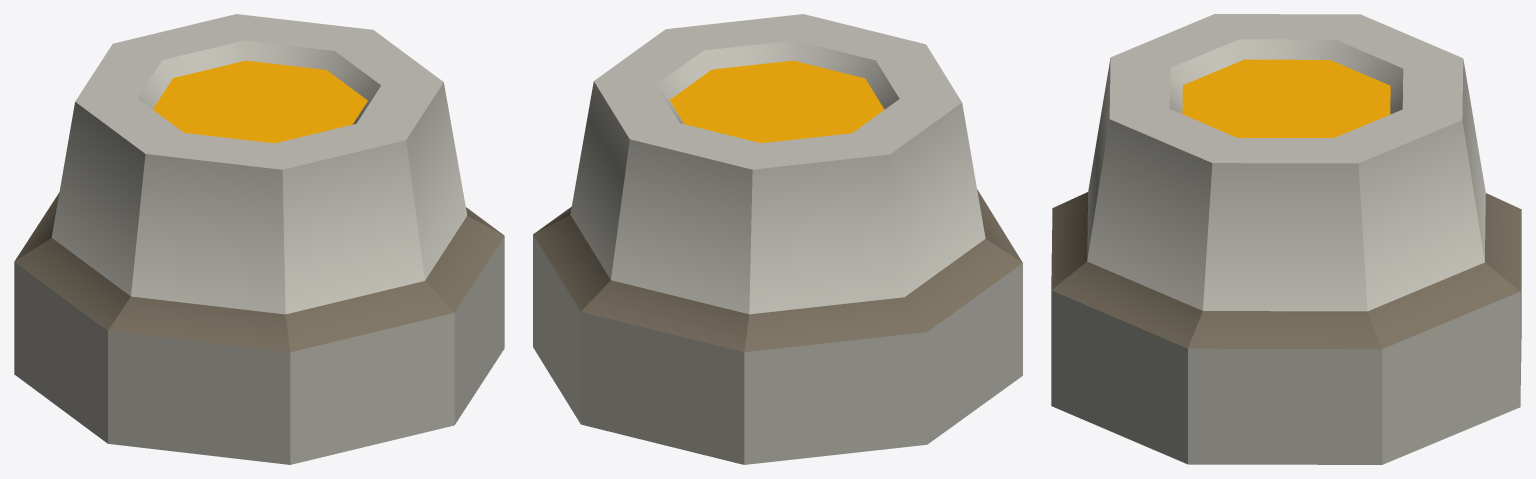
File: Piedestal.fbx
3 views of the same model, side by side, from view 1: azimuth 30°, elevation 25°; view 2: azimuth 150°, elevation 25°; view 3: azimuth 270°, elevation 25° (orthographic). The views are drawn at different scales.
Visible parts, largest first — view 1: Piedestal; view 2: Piedestal; view 3: Piedestal.
Boxes of the visible parts, x1,y1,x2,y2 form: Piedestal: (14, 14, 504, 464); Piedestal: (533, 14, 1022, 464); Piedestal: (1051, 14, 1521, 464).
Size of the model in its own units: 1.23 by 0.8 by 1.23.
